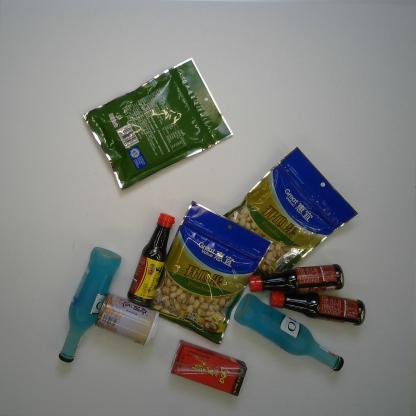Alcohol: (233, 293, 344, 372), (58, 246, 123, 364)
Canned Food: (94, 292, 160, 348)
Dried Fruit: (221, 146, 359, 295), (83, 56, 234, 191), (148, 199, 272, 346)
Drink: (170, 338, 249, 398)
Seasoner: (126, 212, 176, 308), (268, 290, 366, 326), (248, 263, 345, 295)
